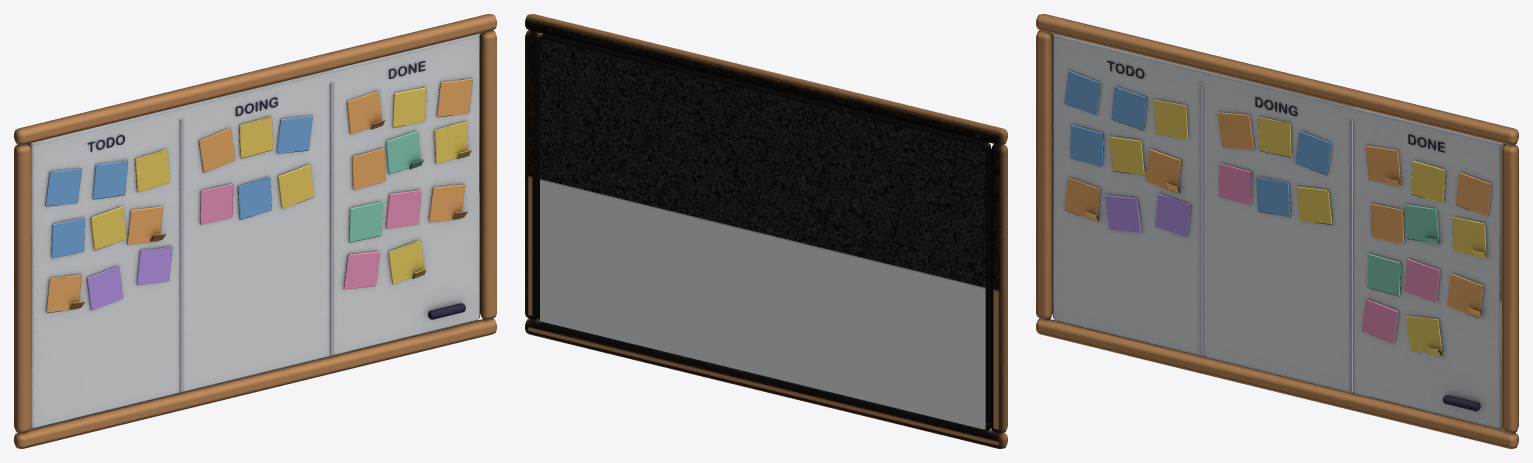
The model's file is sticky_wall.glb.
3 renders of one model, left to right at view 1: azimuth 30°, elevation 25°; view 2: azimuth 150°, elevation 25°; view 3: azimuth 330°, elevation 25°, orthographic.
Visible parts, largest first — view 1: sticky_wall; view 2: sticky_wall; view 3: sticky_wall.
Part boxes in pixels (x1,y1,x2,y2): sticky_wall: (14, 14, 496, 448); sticky_wall: (525, 14, 1007, 448); sticky_wall: (1036, 14, 1518, 448).
Size of the model in its own units: 1.92 by 1.22 by 0.066.
Materials: 10 (10 with a texture image).
